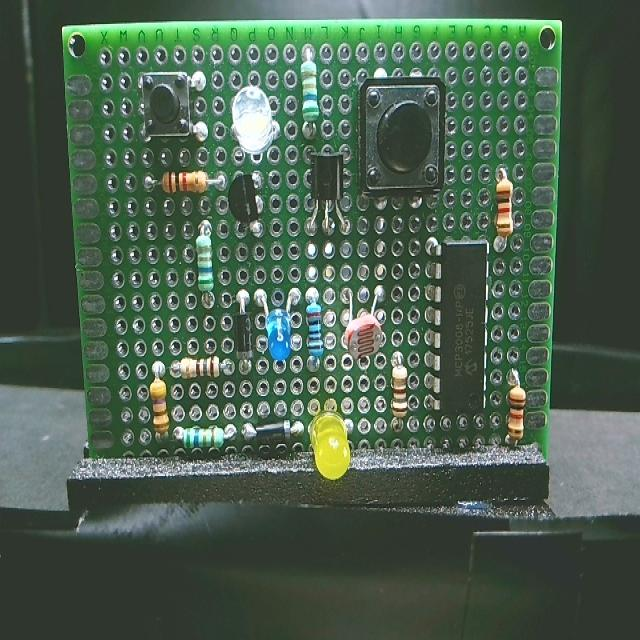IC: (421, 229, 494, 433)
cds: (334, 281, 390, 364)
diode: (229, 285, 258, 384), (241, 419, 307, 454)
led: (226, 83, 283, 169), (253, 284, 304, 372), (303, 406, 360, 484)
resistor: (142, 356, 174, 454), (295, 43, 326, 143), (141, 172, 229, 200), (193, 218, 219, 311), (493, 160, 518, 256), (172, 422, 240, 457), (302, 284, 326, 380), (169, 354, 236, 386), (505, 363, 528, 456), (387, 346, 412, 426)
switch: (354, 62, 453, 214), (137, 68, 213, 152)
transistor: (303, 148, 354, 247), (225, 163, 272, 248)
